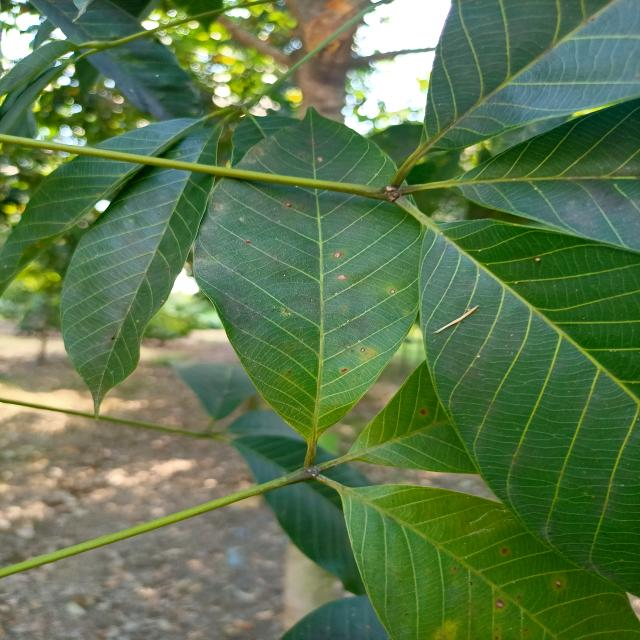Colletotrichum: (337, 274, 347, 281), (333, 252, 341, 258), (360, 348, 365, 352), (390, 290, 394, 294)
